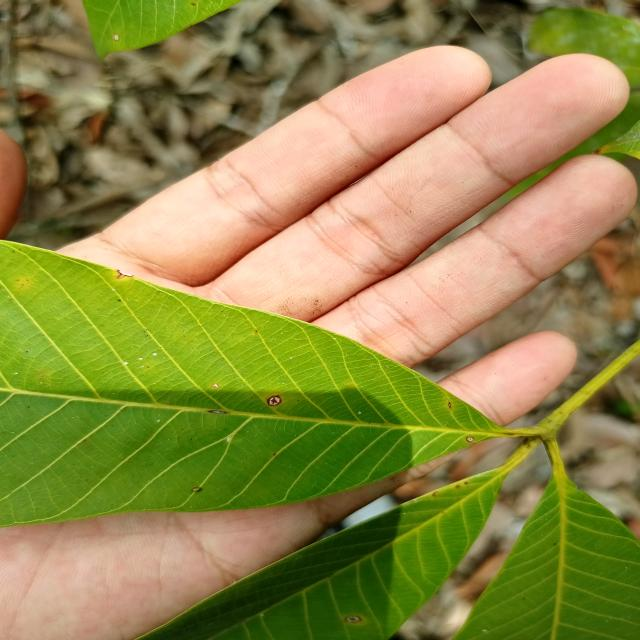Colletotrichum: (267, 395, 282, 406), (345, 616, 362, 623), (466, 437, 474, 442)
